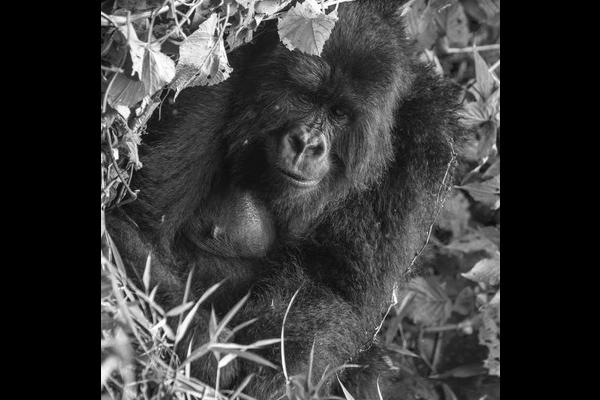goriile_montagne: (137, 0, 454, 400)
